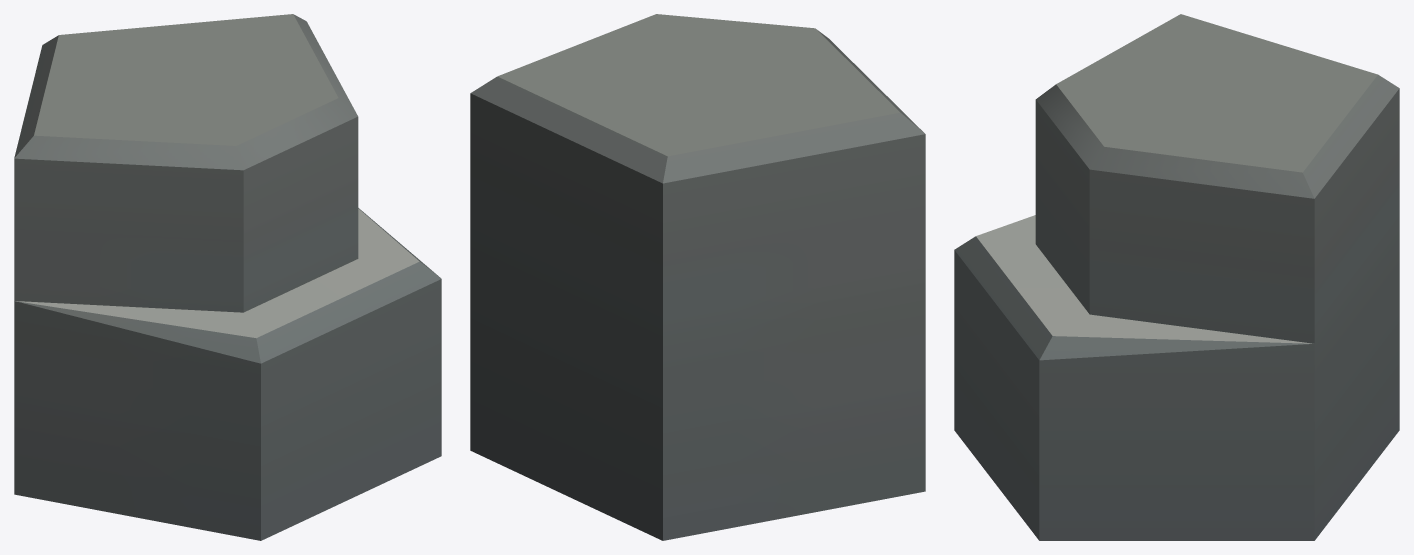
Rendered from rock.glb.
3 renders of one model, left to right at view 1: azimuth 30°, elevation 25°; view 2: azimuth 150°, elevation 25°; view 3: azimuth 270°, elevation 25°, orthographic. The views are drawn at different scales.
Parts seen in each view (by area): view 1: Rock_1_A_Color1; view 2: Rock_1_A_Color1; view 3: Rock_1_A_Color1.
Boxes of the visible parts, left/top/right/bottom form: Rock_1_A_Color1: left=14, top=14, right=441, bottom=540; Rock_1_A_Color1: left=470, top=14, right=925, bottom=540; Rock_1_A_Color1: left=954, top=14, right=1399, bottom=540.
Size of the model in its own units: 0.578 by 0.5403 by 0.6078.
Materials: 1 (1 with a texture image).
